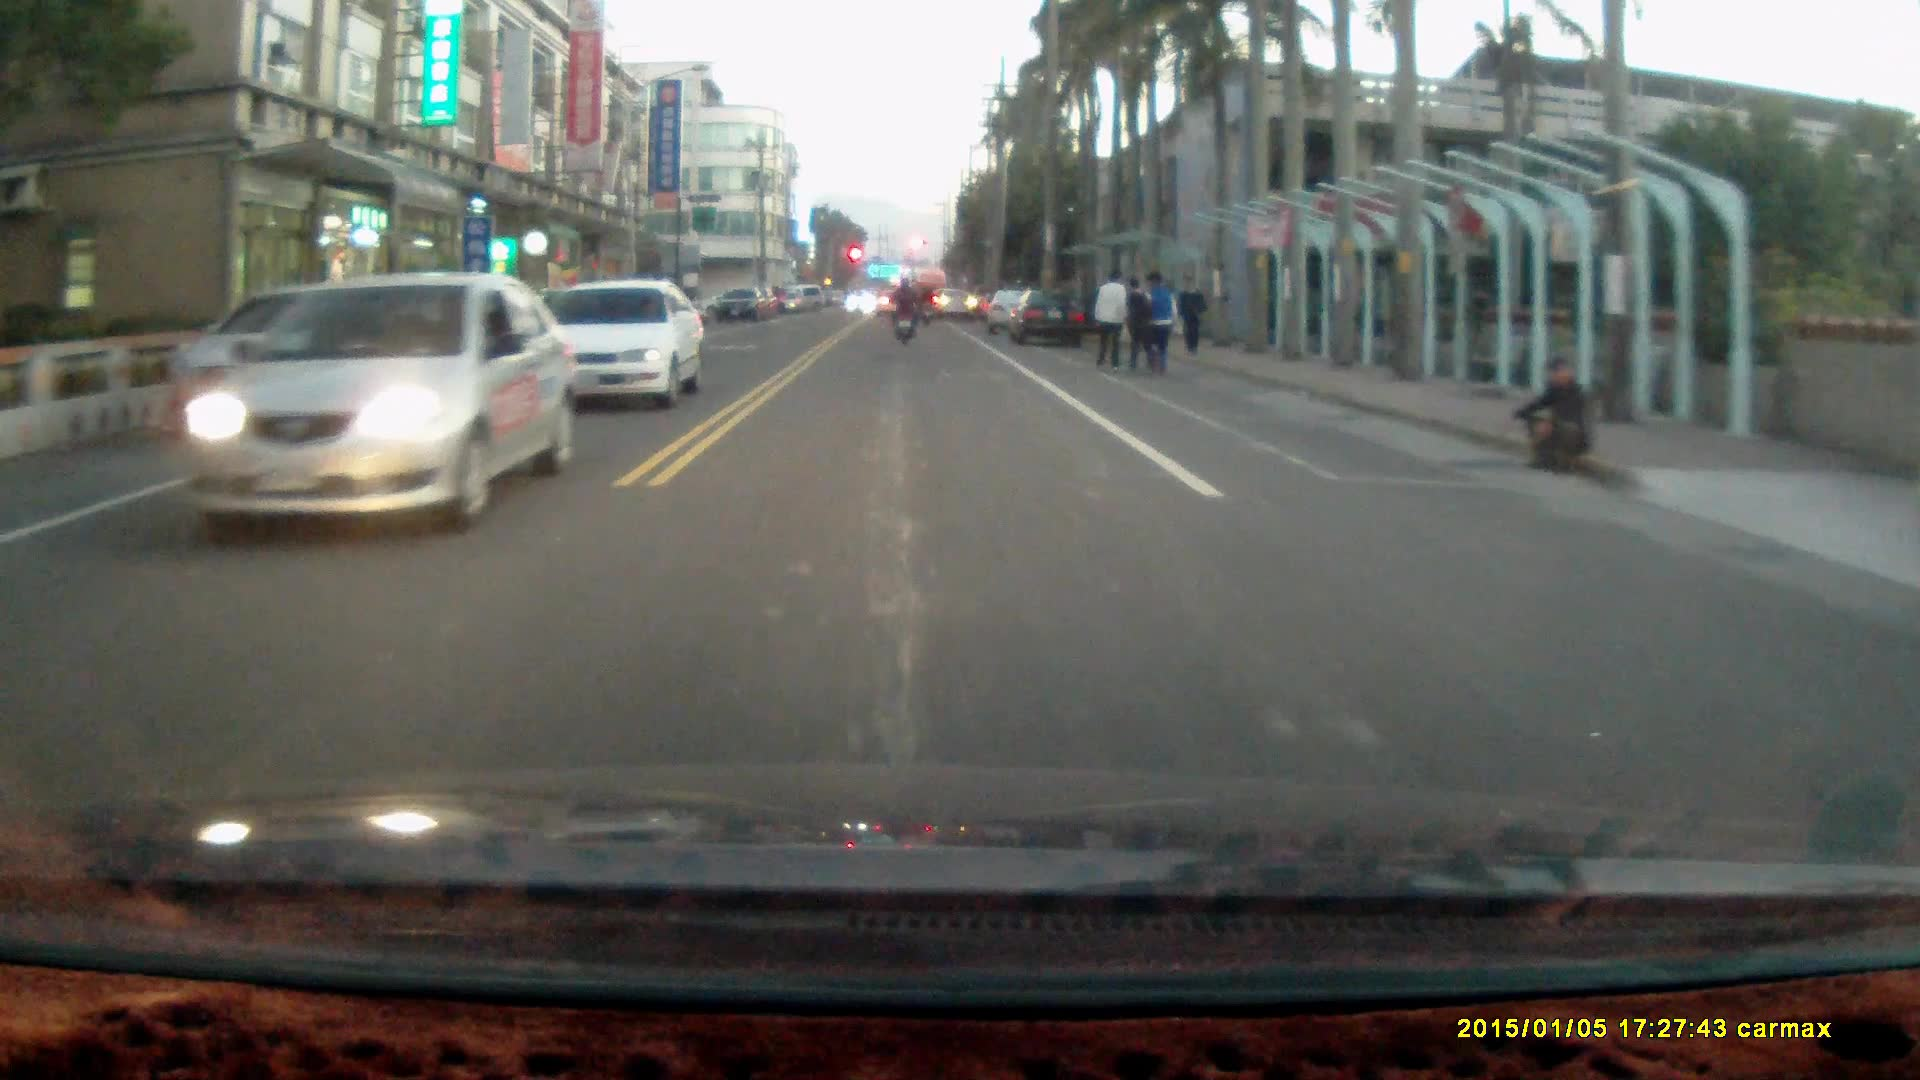pedestrian: (1509, 357, 1595, 477), (1133, 268, 1181, 374), (1091, 265, 1126, 372), (1120, 274, 1154, 372), (1171, 268, 1206, 352)
rider: (885, 274, 917, 346)
vehicle: (152, 271, 565, 540), (541, 278, 709, 412), (1004, 290, 1090, 346)
